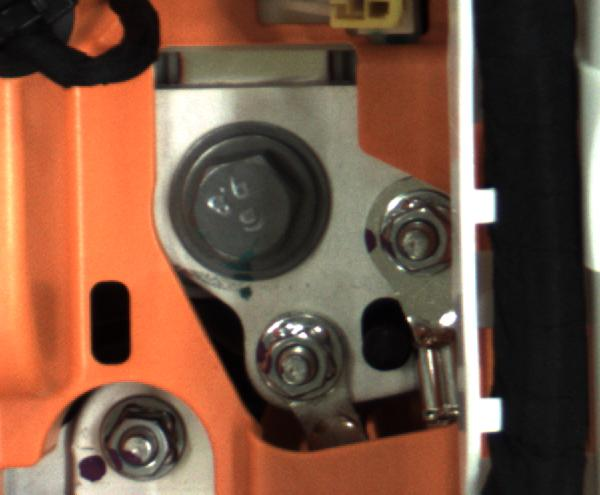nut_b: (168, 124, 330, 284)
screw_s: (257, 313, 350, 404), (100, 401, 181, 479), (380, 189, 456, 272)
